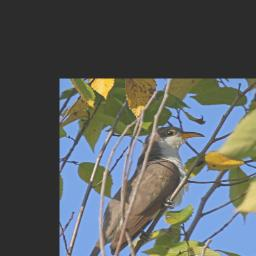Cuckoo: (101, 126, 231, 256)
